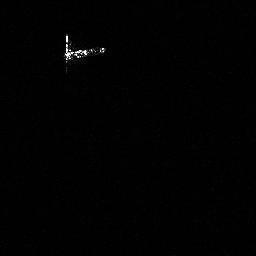ship: (54, 33, 117, 66)
